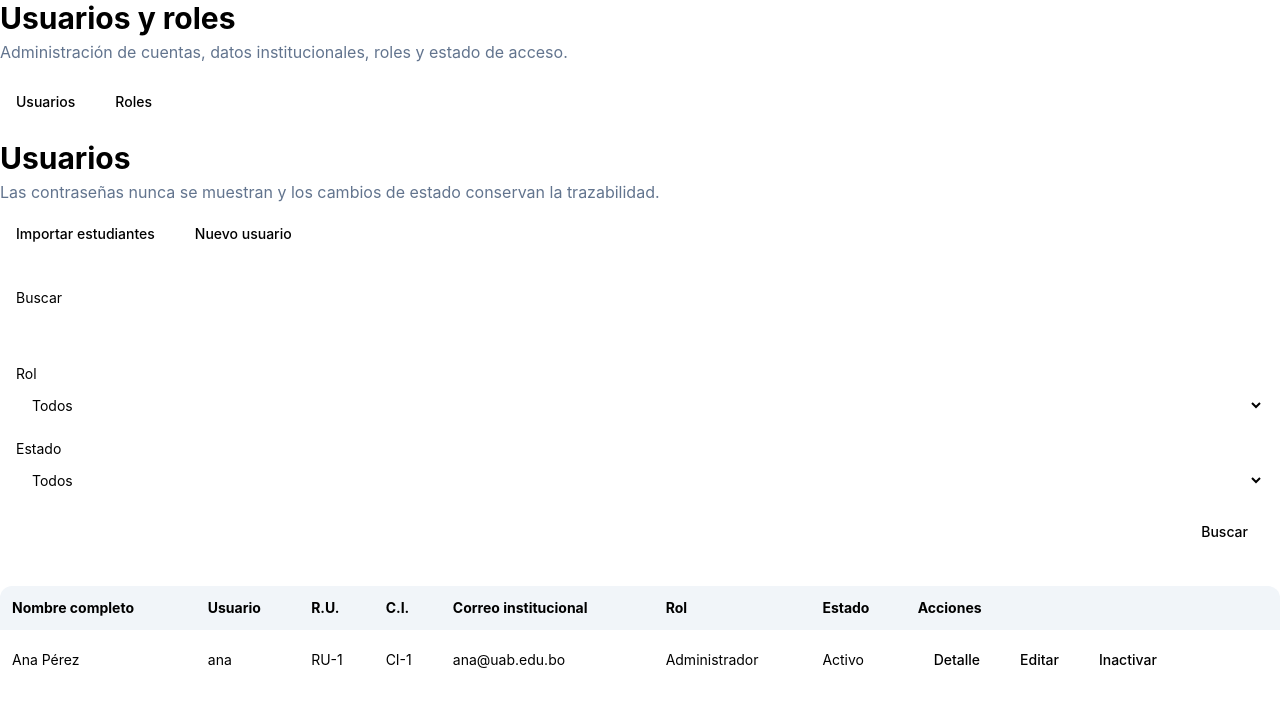
carga staff y permite desmarcarlo al editar un ADMINISTRADOR
Later steps or results of the test are not shown.
Expected: the text "Ana Pérez" is shown, [0,630,196,690]
Click the button "Editar": (1040, 660) [1004,642,1075,678]
(page scrolled)
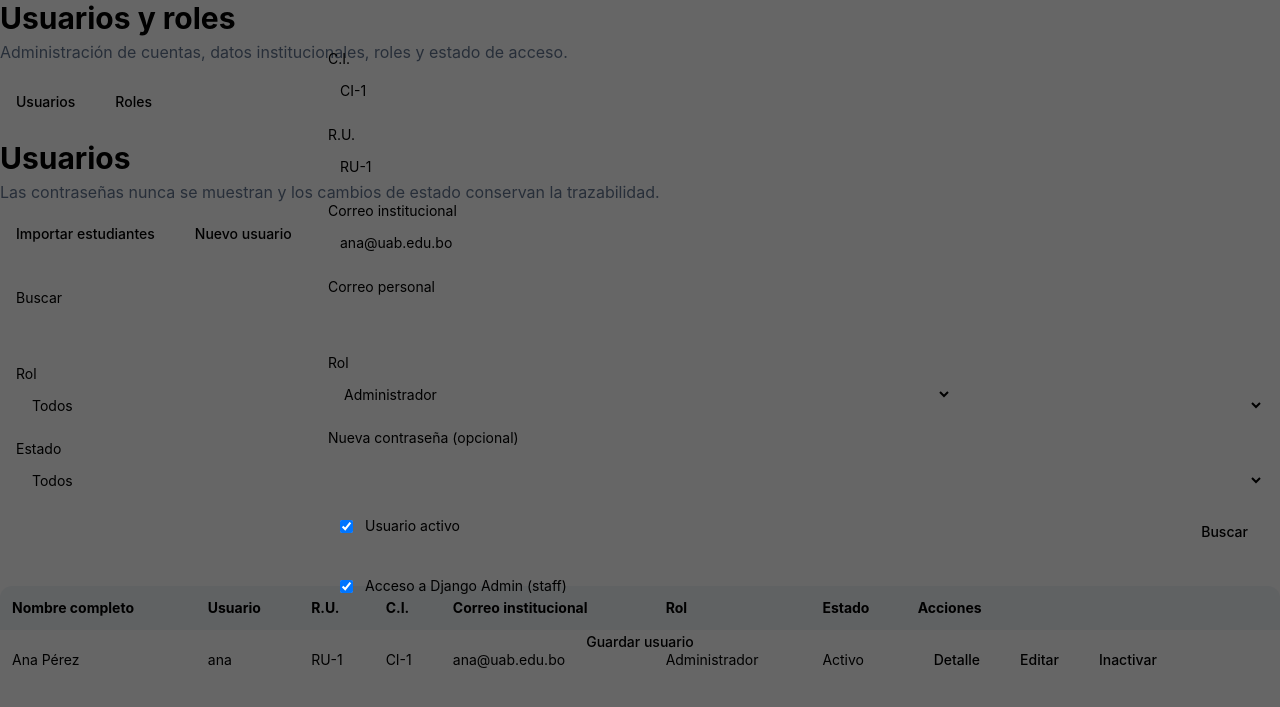
Expected: the checkbox labelled "Acceso a Django Admin (staff)" is checked, [340,580,353,592]
